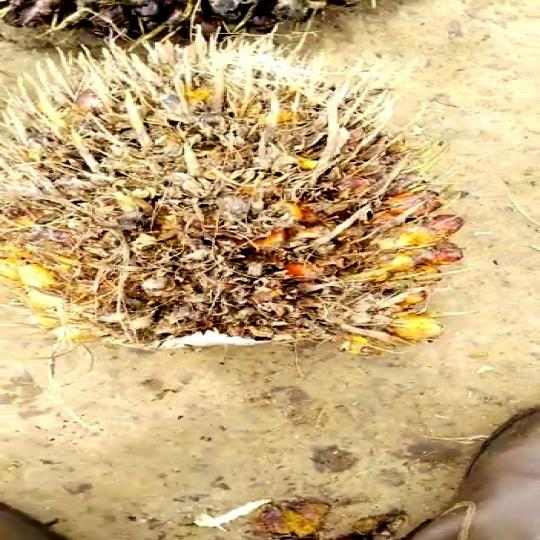terlalu masak: (0, 29, 531, 371)
